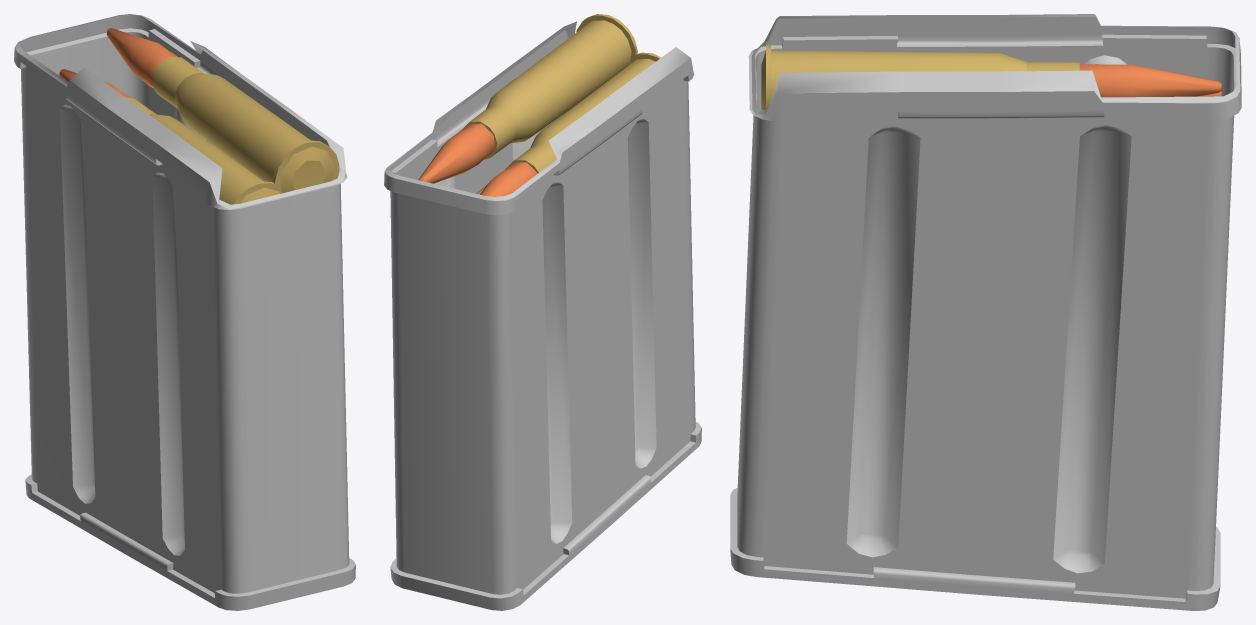
File: SM_AWP_Magazine.fbx
3 renders of one model, left to right at view 1: azimuth 30°, elevation 25°; view 2: azimuth 150°, elevation 25°; view 3: azimuth 270°, elevation 25°, orthographic. The views are drawn at different scales.
Parts seen in each view (by area): view 1: Bullet; view 2: Bullet; view 3: Bullet.
Part boxes in pixels (x1,y1,x2,y2): Bullet: [14, 14, 355, 610]; Bullet: [384, 14, 701, 610]; Bullet: [730, 14, 1241, 610].
Bounding box in the file's own units: 2.9 × 9.53 × 8.15.
